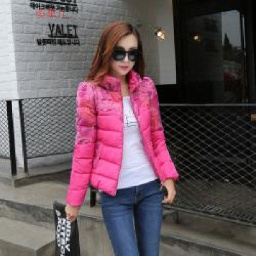face: (89, 22, 144, 78)
